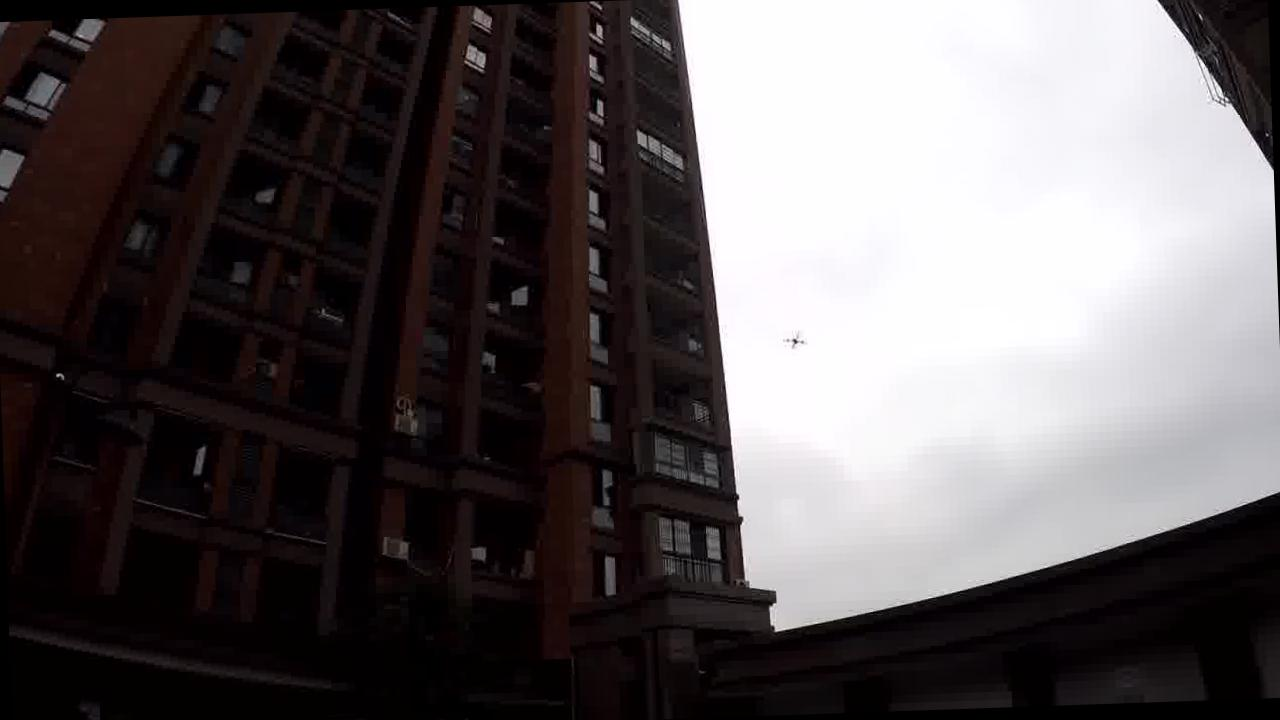drone: (778, 327, 808, 352)
